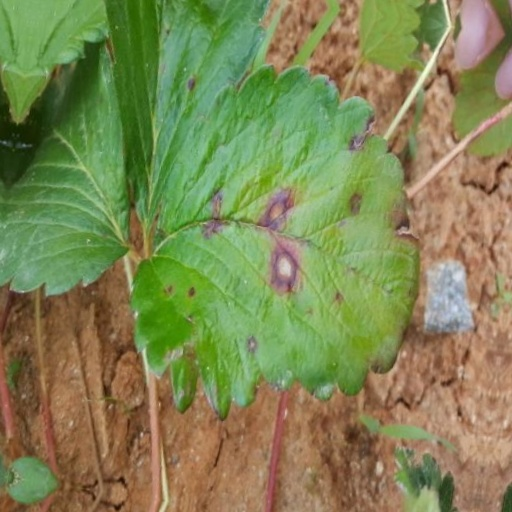Leaf Spot: (136, 61, 423, 424), (64, 0, 233, 255), (0, 65, 129, 329)
